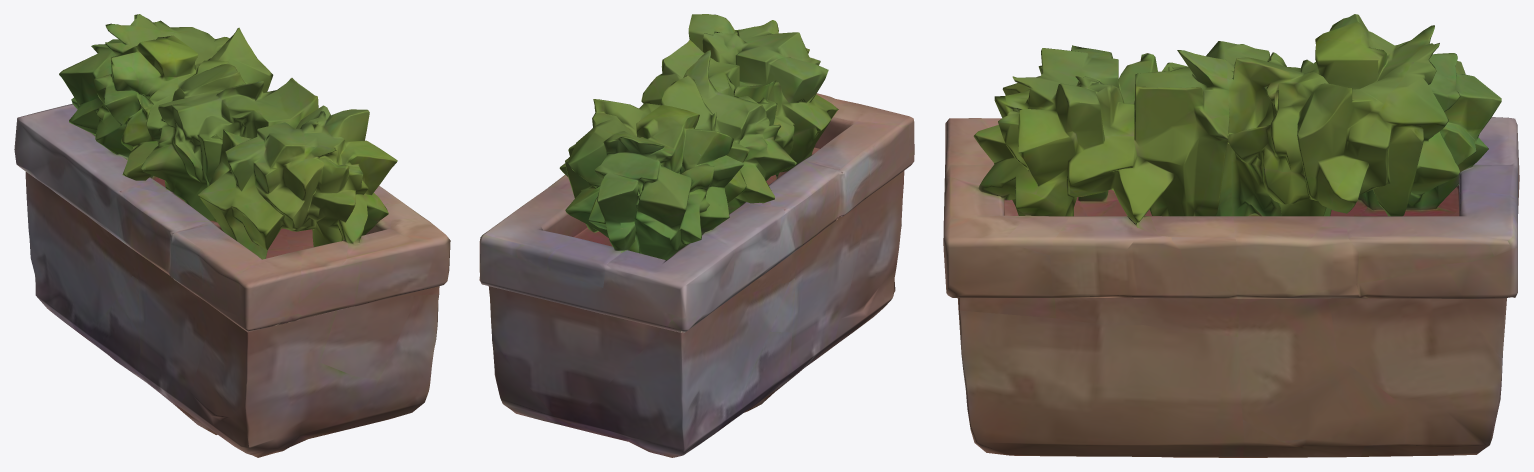
Rendered from planter.glb.
3 views of the same model, side by side, from view 1: azimuth 30°, elevation 25°; view 2: azimuth 150°, elevation 25°; view 3: azimuth 270°, elevation 25° (orthographic). The views are drawn at different scales.
Parts seen in each view (by area): view 1: tripo_node_efa5ec47-a3df-457b-ba61-4a4b3bb1bf07; view 2: tripo_node_efa5ec47-a3df-457b-ba61-4a4b3bb1bf07; view 3: tripo_node_efa5ec47-a3df-457b-ba61-4a4b3bb1bf07.
Boxes of the visible parts, x1,y1,x2,y2 form: tripo_node_efa5ec47-a3df-457b-ba61-4a4b3bb1bf07: (14,14,450,457); tripo_node_efa5ec47-a3df-457b-ba61-4a4b3bb1bf07: (479,14,914,457); tripo_node_efa5ec47-a3df-457b-ba61-4a4b3bb1bf07: (943,14,1519,457).
Size of the model in its own units: 0.6326 by 1 by 1.22.
Materials: 1 (1 with a texture image).
